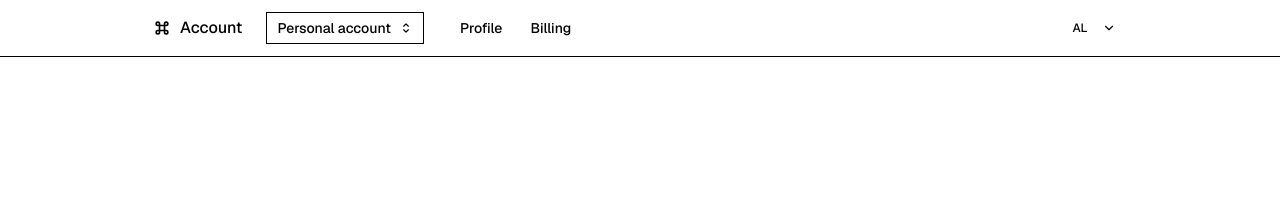
PortalNav › opens the account menu with the user's details and sign out
The width and height of the screenshot is (1280, 207).
Step 1. Click the button "AL" → (1091, 28), box left=1054, top=10, right=1128, bottom=46
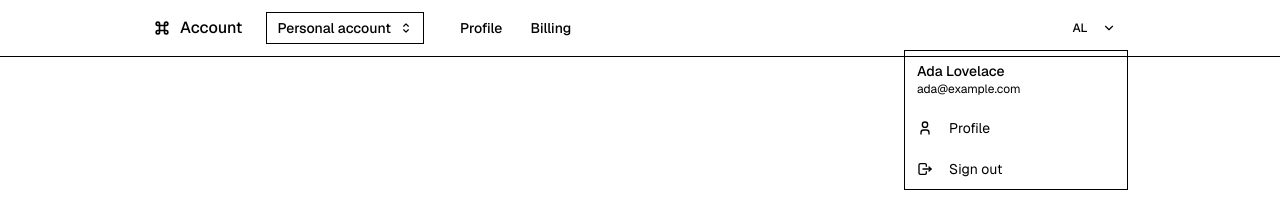
expect the text "ada@example.com" is shown: met, box left=917, top=81, right=1021, bottom=97
expect the menu item "Sign out" is shown: met, box left=917, top=160, right=1002, bottom=178
